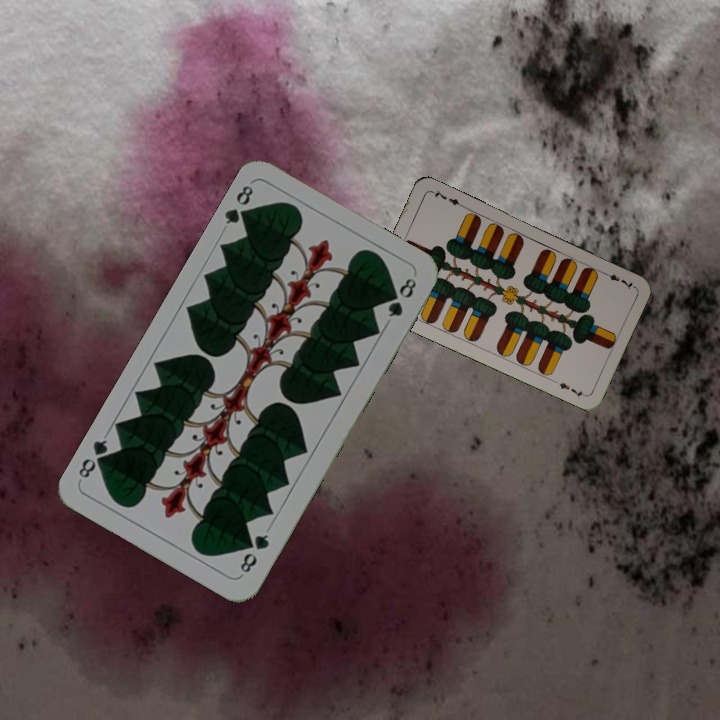E7: (598, 267, 636, 292)
G8: (220, 181, 256, 228), (236, 530, 272, 576)
